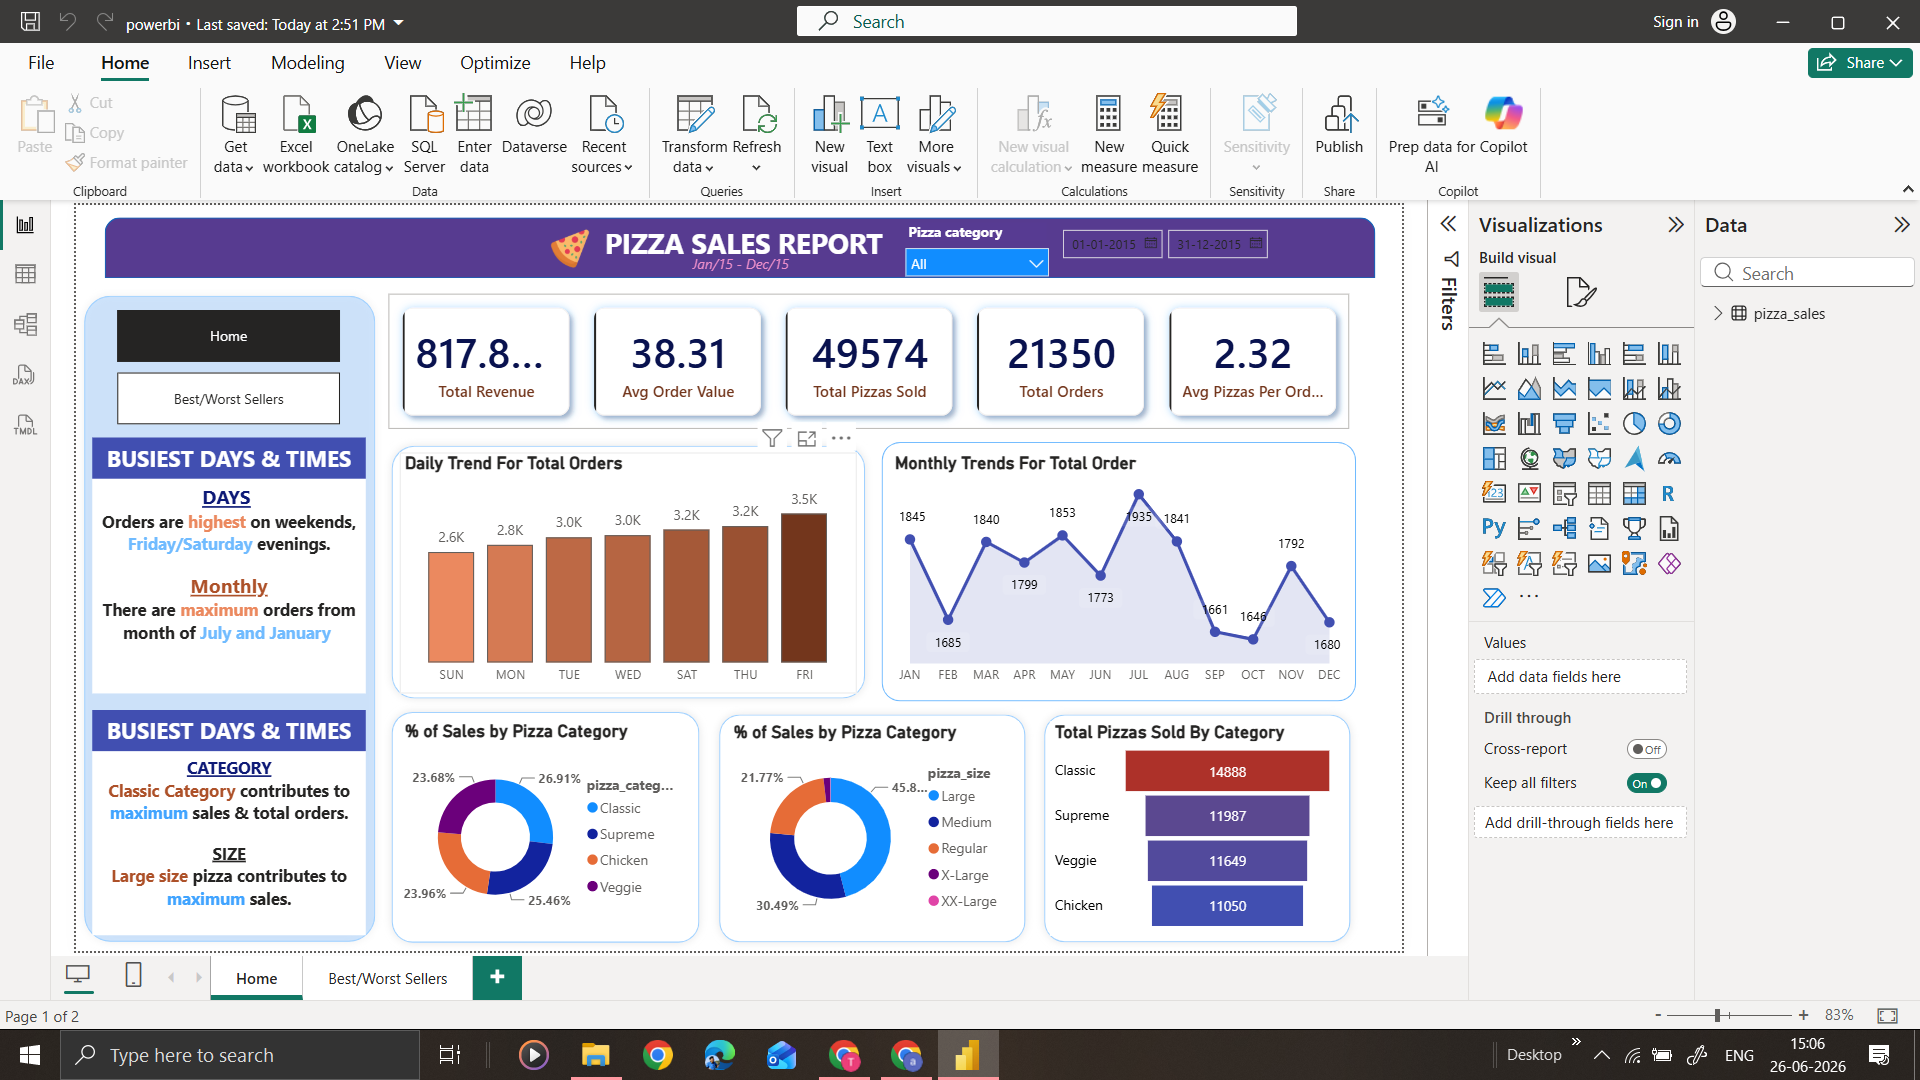

The dashboard page shown, as its layout file describes it:
{"tool":"powerbi","page":{"name":"Home","canvas":[1280,720],"ordinal":0},"visuals":[{"type":"cardVisual","fields":{"Data":["pizza_sales.Total Revenue","pizza_sales.Avg Order Value","pizza_sales.Total Pizzas Sold","pizza_sales.Total Orders","pizza_sales.Avg Pizzas Per Order"]},"box":[297.1,81.4,941.4,140],"z":0},{"type":"shape","box":[27.5,12.5,1226.2,58.8],"z":1000},{"type":"textbox","box":[504.9,12.7,280.3,58.5],"z":2000},{"type":"textbox","box":[28,331.5,1226,150],"z":3000},{"type":"textbox","box":[484.3,428.6,270,42.9],"z":4000},{"type":"textbox","box":[590,42.5,107.5,30],"z":5000},{"type":"shape","box":[770,221.2,473.8,266.2],"z":6000},{"type":"shape","box":[297.1,224.3,472.9,260],"z":7000},{"type":"shape","box":[0,79.6,296.8,639.4],"z":8000},{"type":"columnChart","title":"Daily Trend For Total Orders","fields":{"Category":["pizza_sales.Order Day"],"Y":["pizza_sales.Total Orders"]},"box":[312.9,238.6,441.4,232.9],"z":9000},{"type":"image","box":[448.8,22.5,56.2,38.8],"z":10000},{"type":"areaChart","title":"Monthly Trends For Total Order","fields":{"Category":["pizza_sales.Order Month"],"Y":["pizza_sales.Total Orders"]},"box":[785.7,238.6,444.3,232.9],"z":11000},{"type":"shape","box":[297.1,481.4,312.9,238.6],"z":12000},{"type":"shape","box":[927.1,484.3,311.4,235.7],"z":13000},{"type":"shape","box":[612.9,484.3,311.4,235.7],"z":14000},{"type":"donutChart","title":"% of Sales by Pizza Category ","fields":{"Category":["pizza_sales.pizza_category"],"Y":["pizza_sales.Total Revenue"]},"box":[312.9,497.1,277.1,207.1],"z":15000},{"type":"donutChart","title":"% of Sales by Pizza Category ","fields":{"Category":["pizza_sales.pizza_size"],"Y":["pizza_sales.Total Revenue"]},"box":[630,498.6,277.1,207.1],"z":16000},{"type":"funnel","title":"Total Pizzas Sold By Category ","fields":{"Category":["pizza_sales.pizza_category"],"Y":["pizza_sales.Total Pizzas Sold"]},"box":[940,498.6,280,207.1],"z":17000},{"type":"textbox","box":[15.7,224.3,264.3,40],"z":18000},{"type":"textbox","box":[15.7,264.2,264.2,207.5],"z":19000},{"type":"textbox","box":[15.7,487.4,264.2,39.8],"z":20000},{"type":"textbox","box":[15.7,527.2,264.2,177.3],"z":21000},{"type":"slicer","fields":{"Values":["pizza_sales.pizza_category"]},"box":[790.4,12.3,159.2,59],"z":22000},{"type":"slicer","fields":{"Values":["pizza_sales.order_date"]},"box":[940,12.5,248.8,58.8],"z":22001},{"type":"pageNavigator","box":[40,101.2,215,50],"z":22002},{"type":"pageNavigator","box":[40,161.2,215,50],"z":22003}]}

Visuals, with their boxes on the page's 1280x720 design canvas (x1, y1, x2, y2). These are canvas units, not pixel positions in the 1920x1080 screenshot, which may show the page scaled, cropped or inside an application window:
cardVisual - pizza_sales.Total Revenue x pizza_sales.Avg Order Value: locate(297, 81, 1238, 221)
shape: locate(28, 12, 1254, 71)
textbox: locate(505, 13, 785, 71)
textbox: locate(28, 332, 1254, 482)
textbox: locate(484, 429, 754, 472)
textbox: locate(590, 42, 698, 72)
shape: locate(770, 221, 1244, 487)
shape: locate(297, 224, 770, 484)
shape: locate(0, 80, 297, 719)
"Daily Trend For Total Orders" columnChart: locate(313, 239, 754, 472)
image: locate(449, 22, 505, 61)
"Monthly Trends For Total Order" areaChart: locate(786, 239, 1230, 472)
shape: locate(297, 481, 610, 720)
shape: locate(927, 484, 1238, 720)
shape: locate(613, 484, 924, 720)
"% of Sales by Pizza Category " donutChart: locate(313, 497, 590, 704)
"% of Sales by Pizza Category " donutChart: locate(630, 499, 907, 706)
"Total Pizzas Sold By Category " funnel: locate(940, 499, 1220, 706)
textbox: locate(16, 224, 280, 264)
textbox: locate(16, 264, 280, 472)
textbox: locate(16, 487, 280, 527)
textbox: locate(16, 527, 280, 704)
slicer - pizza_sales.pizza_category: locate(790, 12, 950, 71)
slicer - pizza_sales.order_date: locate(940, 12, 1189, 71)
pageNavigator: locate(40, 101, 255, 151)
pageNavigator: locate(40, 161, 255, 211)
